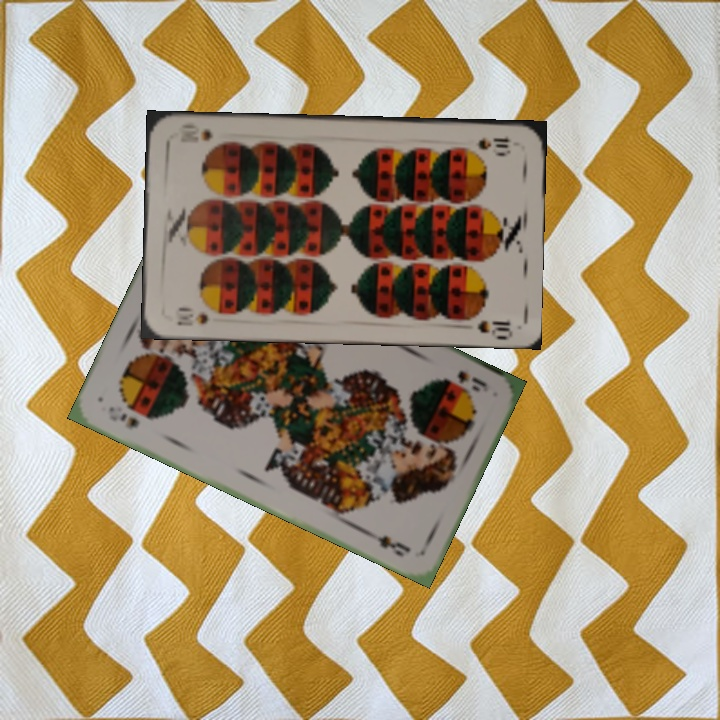S10: (461, 133, 514, 154), (173, 304, 210, 329)
SO: (440, 366, 491, 395), (104, 402, 142, 432)
